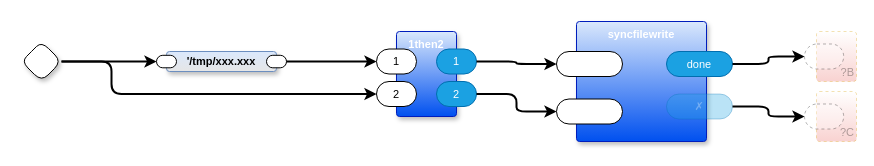
The diagram is 874 pixels wide and 166 high, and some of its shapes have lost their labels. Each missing label, with the centre of its shape:
"filename" belongs at (x=589, y=63).
"input" belongs at (x=589, y=111).
